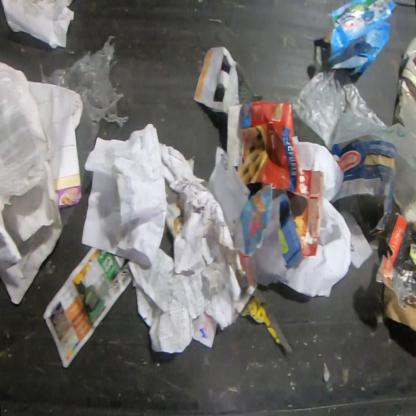cardboard: (226, 101, 324, 257), (330, 139, 394, 270), (322, 0, 400, 77), (374, 211, 415, 333)
soft_plastic: (291, 70, 415, 217), (37, 35, 130, 198)
